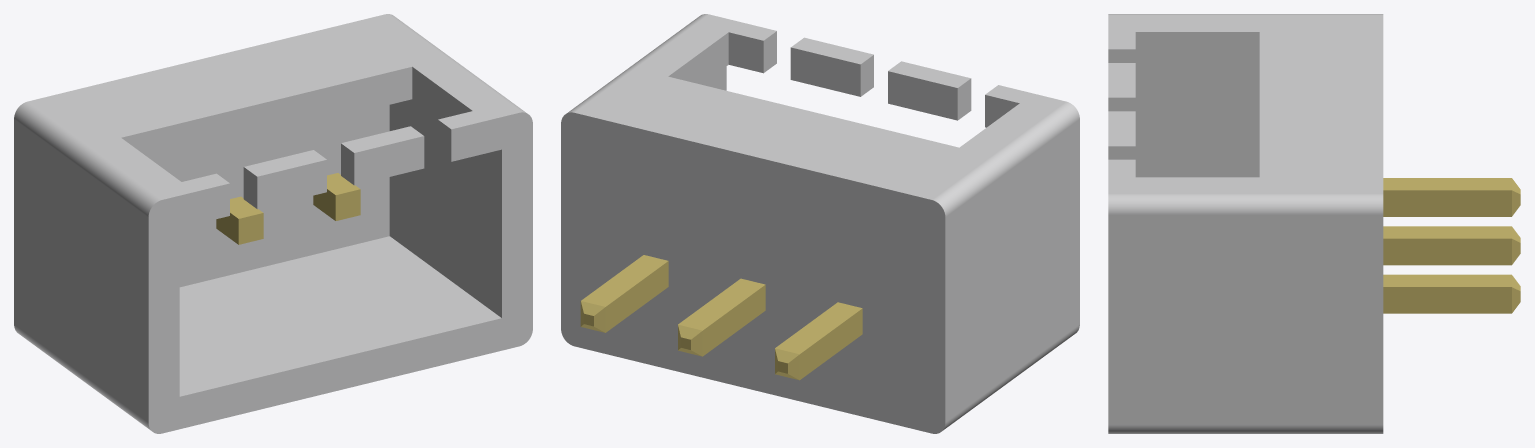
Rendered from jst_xh_3pin.glb.
3 renders of one model, left to right at view 1: azimuth 30°, elevation 25°; view 2: azimuth 150°, elevation 25°; view 3: azimuth 270°, elevation 25°, orthographic. The views are drawn at different scales.
Parts seen in each view (by area): view 1: world; view 2: world; view 3: world.
Part boxes in pixels (x1,y1,x2,y2): world: (14,14,532,433); world: (561,14,1079,433); world: (1108,14,1520,433).
Size of the model in its own units: 9.9 by 5.75 by 9.
